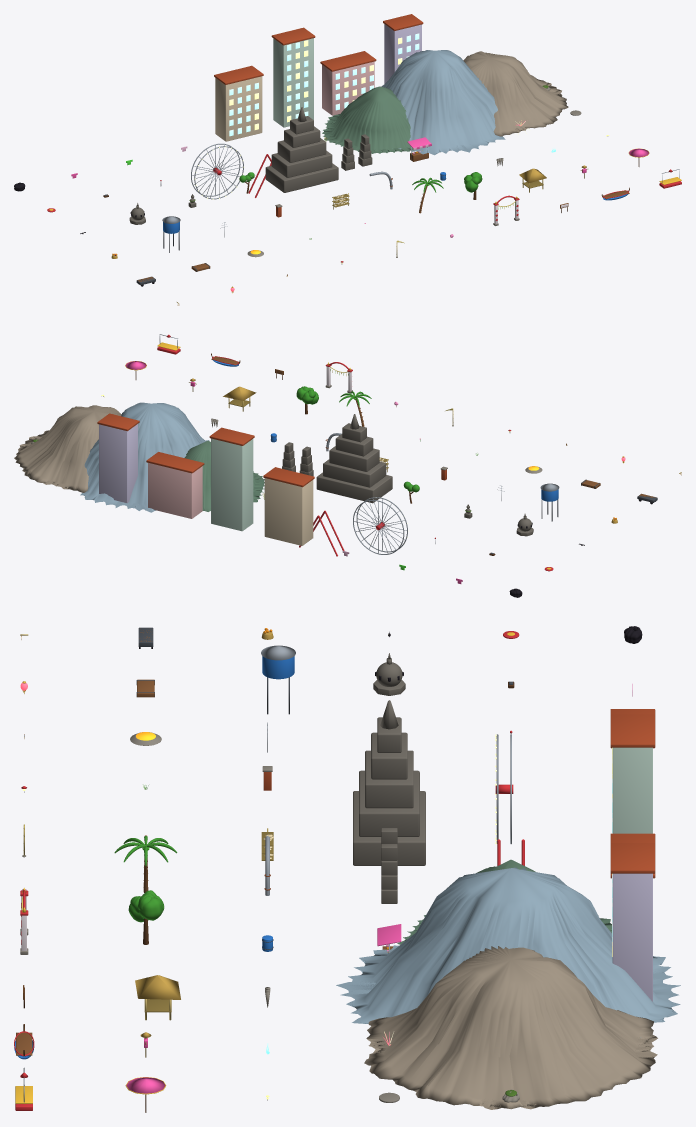
The model's file is kit.glb.
3 renders of one model, top to bottom at view 1: azimuth 30°, elevation 25°; view 2: azimuth 150°, elevation 25°; view 3: azimuth 270°, elevation 25°, orthographic. The views are drawn at different scales.
Parts seen in each view (by area): view 1: gunung_jauh, bromo, gunung, candi_jauh, gedung1, gedung0, gedung2, gedung3, bianglala_roda, pura; view 2: bromo, gunung_jauh, gedung1, candi_jauh, gedung0, gedung2, gedung3, bianglala_roda, gunung, pura, menara_air, gubuk; view 3: bromo, gunung_jauh, candi_jauh, gedung3, gedung1, gubuk, pura, menara_air, sway_pohon, stupa, sway_kelapa, bianglala_roda.
Boxes of the visible parts, box(x1,y1,x2,y2) form: gunung_jauh: box(381, 50, 505, 155); bromo: box(463, 51, 568, 136); gunung: box(322, 86, 413, 153); candi_jauh: box(265, 107, 338, 192); gedung1: box(271, 27, 315, 127); gedung0: box(214, 65, 263, 141); gedung2: box(320, 51, 376, 115); gedung3: box(383, 14, 423, 83); bianglala_roda: box(191, 143, 244, 199); pura: box(341, 134, 372, 170); bromo: box(14, 405, 121, 492); gunung_jauh: box(80, 402, 209, 512); gedung1: box(209, 427, 254, 531); candi_jauh: box(316, 414, 392, 503); gedung0: box(263, 467, 314, 545); gedung2: box(146, 452, 204, 518); gedung3: box(97, 413, 139, 502); bianglala_roda: box(353, 497, 408, 554); gunung: box(184, 440, 264, 511); pura: box(282, 442, 313, 476); menara_air: box(540, 483, 559, 521); gubuk: box(223, 386, 256, 411); bromo: box(364, 946, 657, 1109); gunung_jauh: box(336, 867, 680, 1037); candi_jauh: box(353, 700, 425, 865); gedung3: box(610, 843, 655, 1001); gedung1: box(610, 714, 655, 833); gubuk: box(135, 975, 180, 1020); pura: box(381, 828, 397, 903); menara_air: box(261, 645, 295, 714); sway_pohon: box(128, 890, 164, 944); stupa: box(373, 653, 405, 695); sway_kelapa: box(114, 835, 177, 892); bianglala_roda: box(495, 734, 513, 844).
Size of the model in its own units: 84.41 by 18.76 by 49.39.
